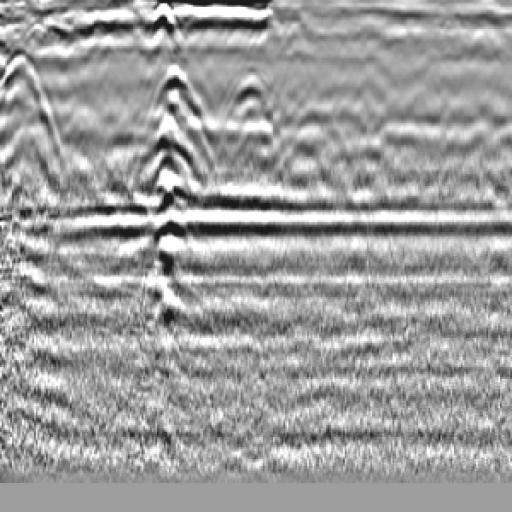metalic: (139, 52, 207, 438)
nonmetalic: (1, 36, 85, 233), (214, 61, 295, 210)
